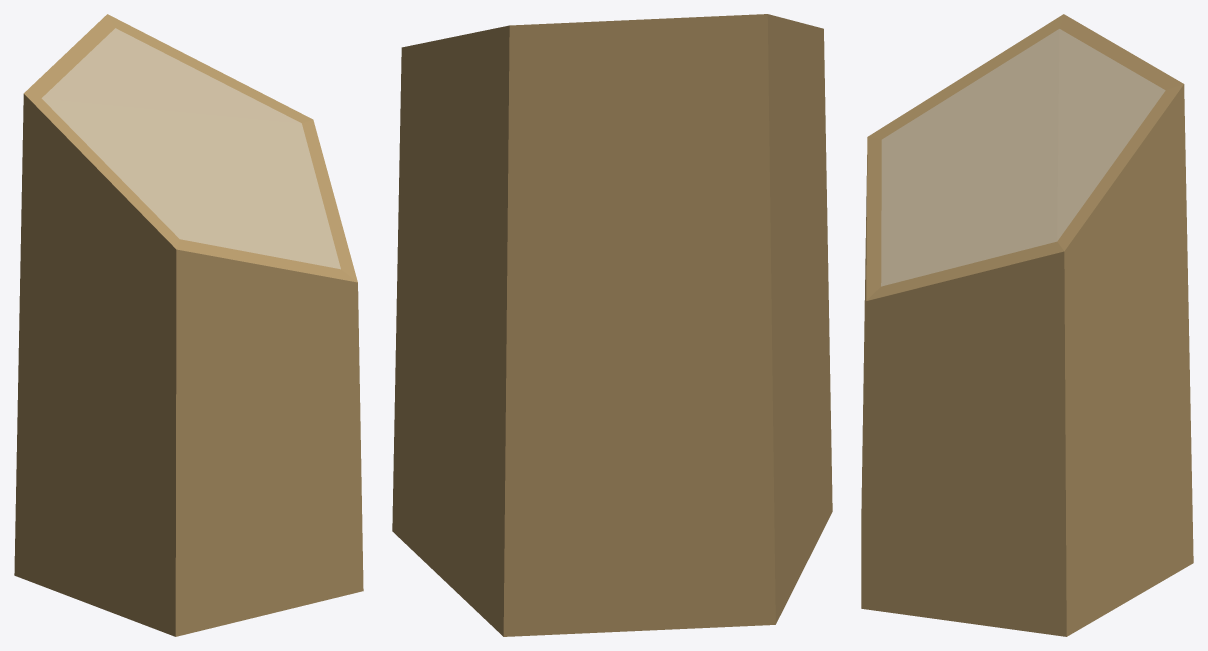
Rendered from Thuja_Stump_02.fbx.
3 views of the same model, side by side, from view 1: azimuth 30°, elevation 25°; view 2: azimuth 150°, elevation 25°; view 3: azimuth 270°, elevation 25° (orthographic). The views are drawn at different scales.
Parts seen in each view (by area): view 1: Thuja_Stump_02; view 2: Thuja_Stump_02; view 3: Thuja_Stump_02.
Part boxes in pixels (x1,y1,x2,y2): Thuja_Stump_02: (14, 14, 363, 636); Thuja_Stump_02: (392, 14, 832, 636); Thuja_Stump_02: (861, 14, 1193, 636).
Size of the model in its own units: 25.41 by 38.45 by 24.17.
